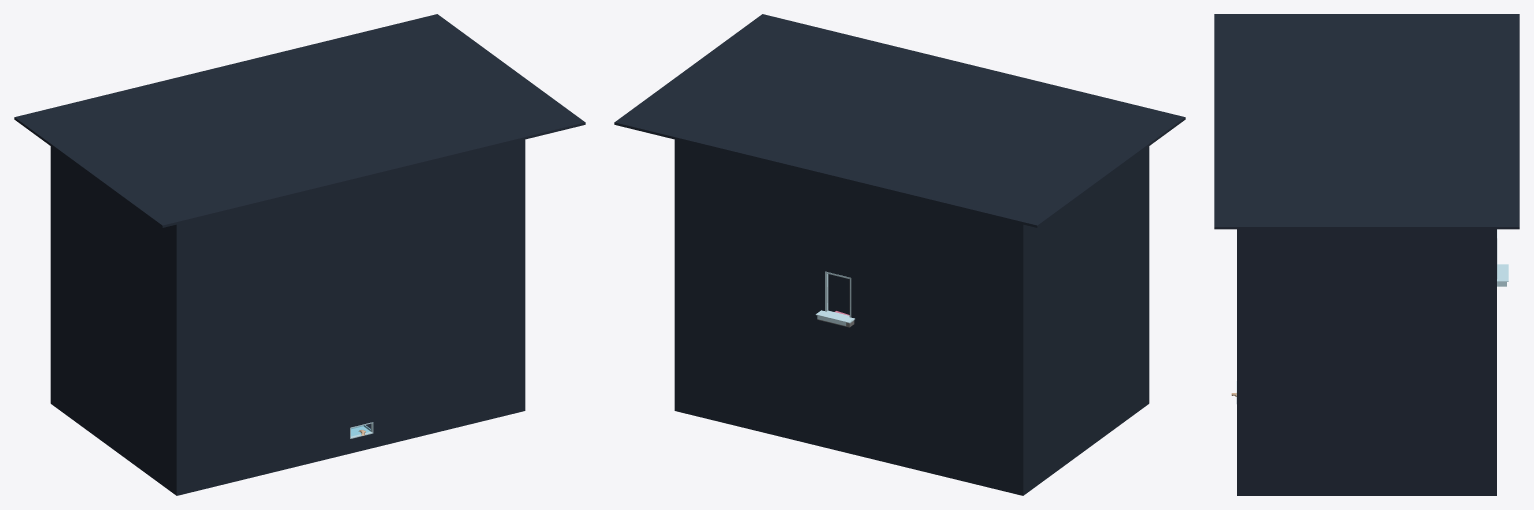
Rendered from 05 exit_mapping.fbx.
3 views of the same model, side by side, from view 1: azimuth 30°, elevation 25°; view 2: azimuth 150°, elevation 25°; view 3: azimuth 270°, elevation 25° (orthographic). The views are drawn at different scales.
Parts seen in each view (by area): view 1: Box, box_top; view 2: Box, box_top; view 3: Box, box_top.
Part boxes in pixels (<box>): Box: <box>50,139,525,495</box>; box_top: <box>14,14,585,227</box>; Box: <box>674,139,1149,495</box>; box_top: <box>614,14,1185,227</box>; Box: <box>1237,229,1496,495</box>; box_top: <box>1214,14,1519,229</box>.
Size of the model in its own units: 2739 by 1762 by 1661.
Materials: 9 (8 with a texture image).
